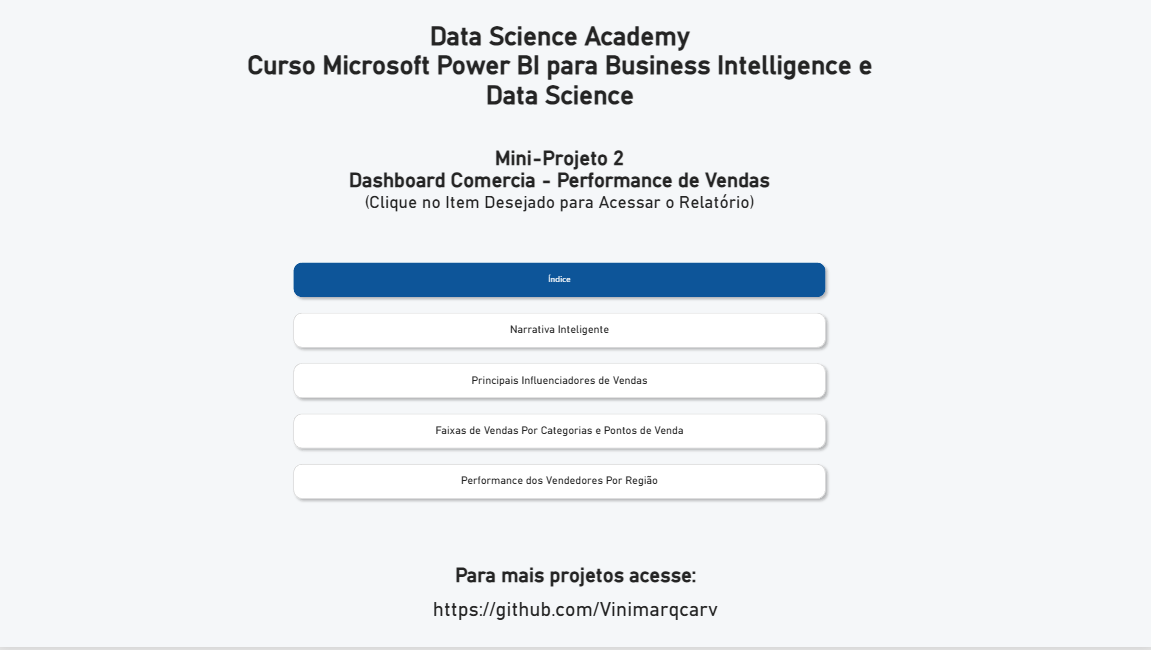

The page's visual inventory and layout, read from the dashboard file:
{"tool":"powerbi","page":{"name":"Índice","canvas":[1920,1080],"ordinal":0},"visuals":[{"type":"textbox","box":[565,245,735,128.3],"z":0},{"type":"pageNavigator","box":[480,430,905,413.3],"z":1000},{"type":"textbox","box":[555,940,808.3,140],"z":2000},{"type":"textbox","box":[406.7,36.7,1053.3,176.7],"z":3000}]}

Visuals, with their boxes in screenshot pixels (x1, y1, x2, y2), scaled from the page's 1920x1080 canvas onto the 1151x650 screenshot:
textbox: select_region(339, 147, 779, 225)
pageNavigator: select_region(288, 259, 830, 508)
textbox: select_region(333, 566, 817, 649)
textbox: select_region(244, 22, 875, 128)
